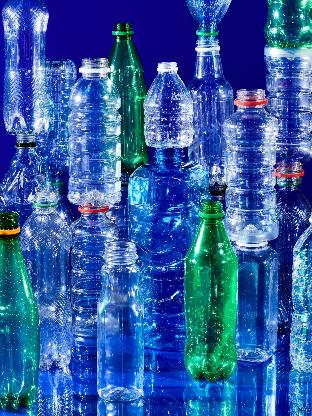Plastic Bottle: (182, 202, 238, 382), (222, 86, 278, 242), (0, 212, 42, 410), (67, 56, 121, 204)
